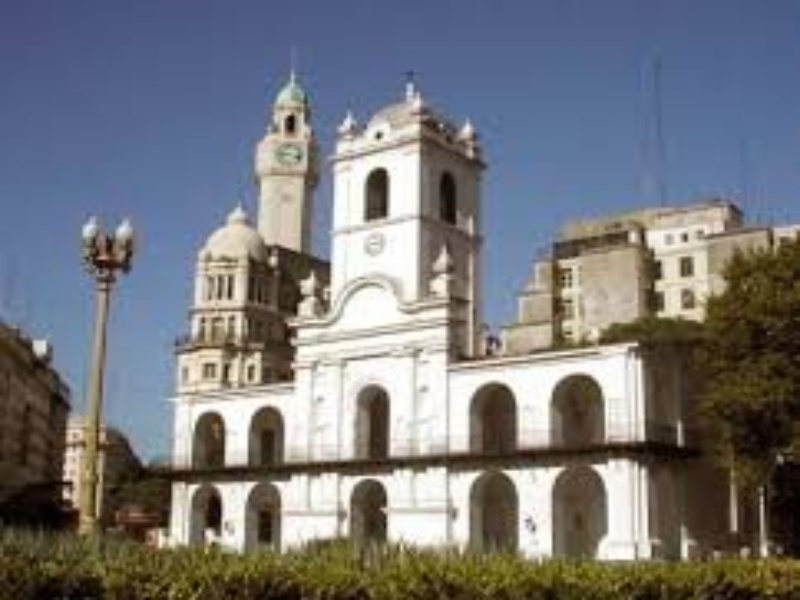cabildo: (165, 68, 703, 562)
